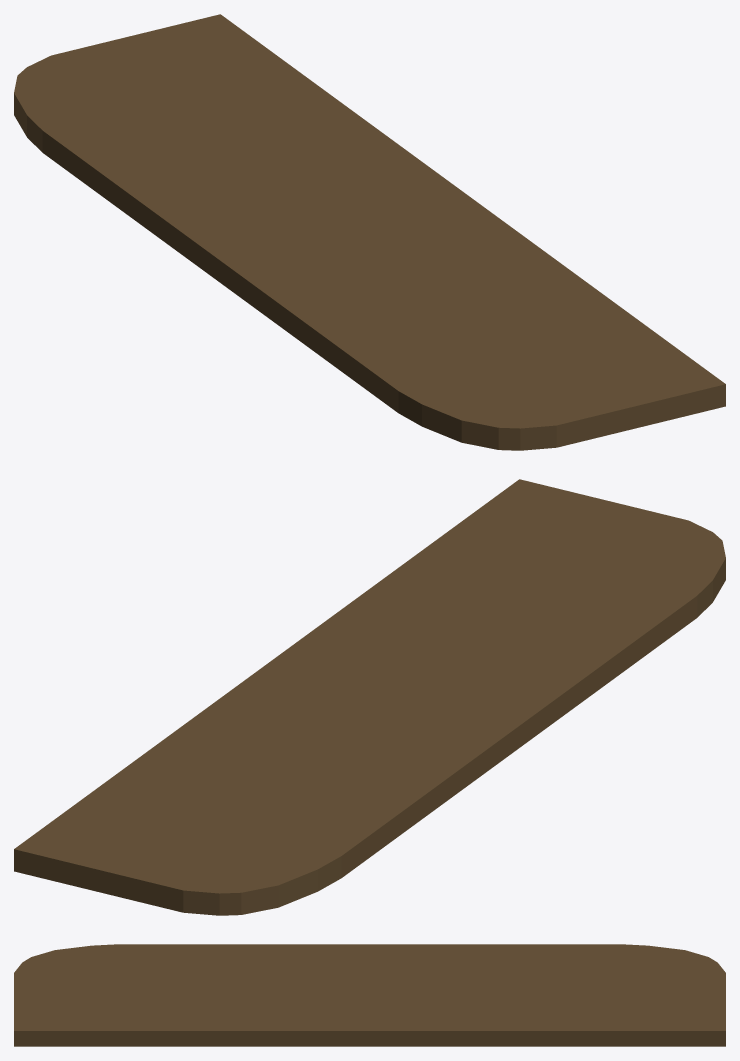
The model's file is shelf.gltf.
3 views of the same model, one above another, from view 1: azimuth 30°, elevation 25°; view 2: azimuth 150°, elevation 25°; view 3: azimuth 270°, elevation 25° (orthographic). The views are drawn at different scales.
Visible parts, largest first — view 1: shelf; view 2: shelf; view 3: shelf.
Boxes of the visible parts, left/top/right/bottom form: shelf: left=14, top=14, right=725, bottom=450; shelf: left=14, top=479, right=725, bottom=915; shelf: left=14, top=944, right=725, bottom=1046.
Bounding box in the file's own units: 1.19 × 0.1 × 4.11.
